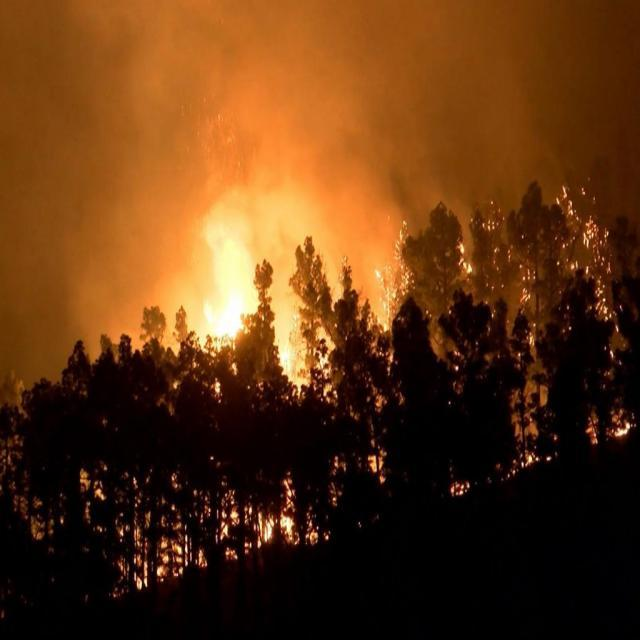Fire: (199, 217, 281, 365), (562, 188, 614, 316), (221, 486, 304, 558), (374, 245, 411, 328), (608, 412, 639, 459)
Smoke: (15, 0, 632, 346)
